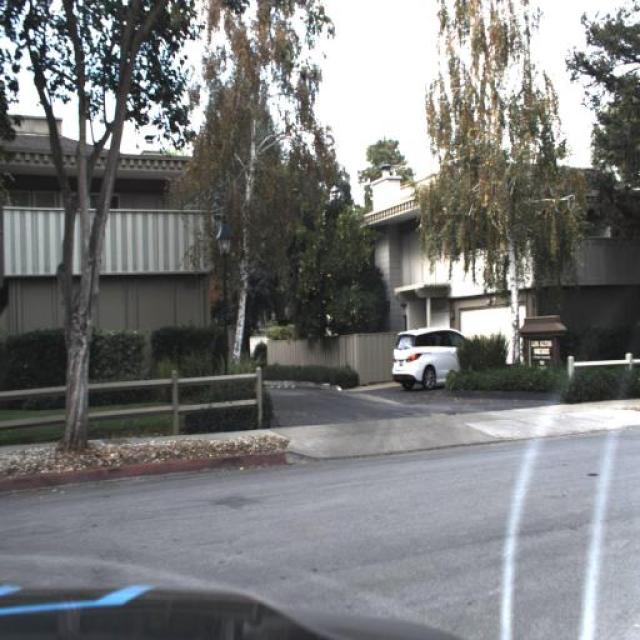car: (386, 324, 470, 390), (392, 327, 471, 389)
